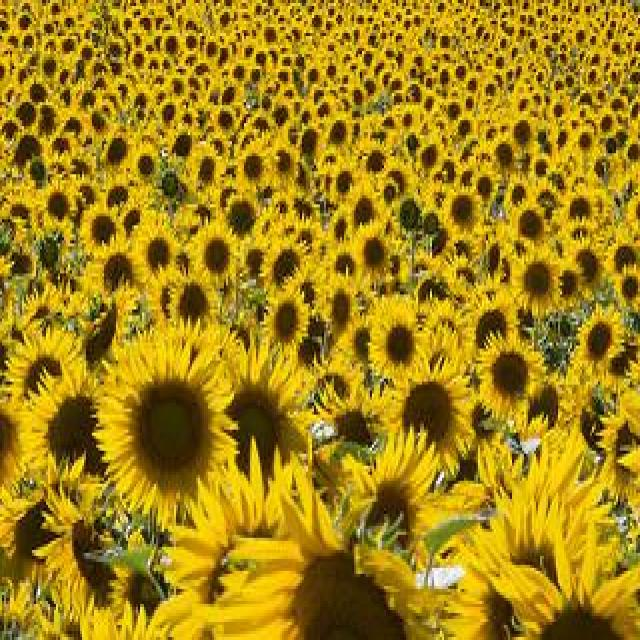sunflower: (222, 502, 440, 640), (97, 329, 233, 515), (454, 499, 616, 640), (42, 456, 144, 640), (217, 326, 317, 506), (23, 368, 127, 503), (389, 368, 471, 482), (0, 316, 86, 420), (369, 288, 439, 378), (477, 342, 541, 423), (457, 288, 523, 361), (94, 236, 148, 302), (255, 238, 311, 300), (579, 302, 623, 380), (510, 246, 562, 312), (260, 287, 308, 356), (136, 221, 180, 287), (350, 228, 398, 288), (437, 185, 487, 239), (195, 222, 237, 286), (323, 278, 361, 347), (223, 191, 265, 248), (567, 236, 607, 290), (236, 144, 274, 196), (606, 225, 640, 282), (509, 202, 551, 246), (38, 184, 76, 232), (562, 188, 600, 230), (330, 154, 362, 202), (508, 111, 538, 156), (616, 264, 640, 318), (11, 95, 41, 134)
